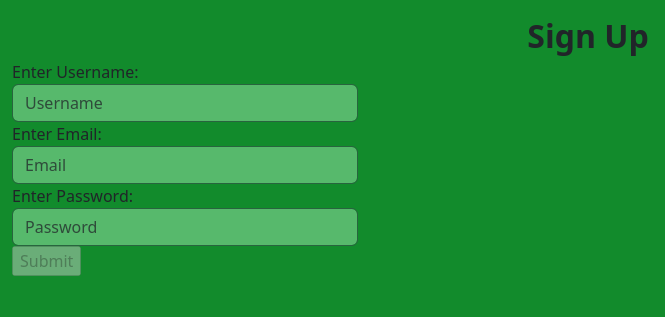
Scenario: SignUp form tests › password tests › should show invalid password message when password input is dirty and invalid
This screenshot has width=665, height=317.
Click the password field with placeholder "Password".
click(185, 227)  # box x1=12 y1=208 x2=358 y2=246
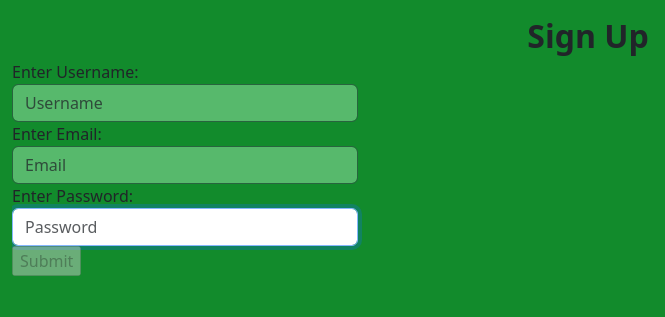
Click the field with placeholder "Username".
click(185, 103)  # box x1=12 y1=84 x2=358 y2=122
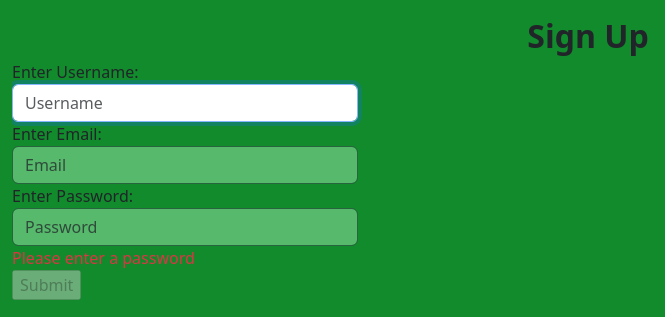
Check: the text "Please enter a password" is shown, box x1=12 y1=247 x2=195 y2=269
